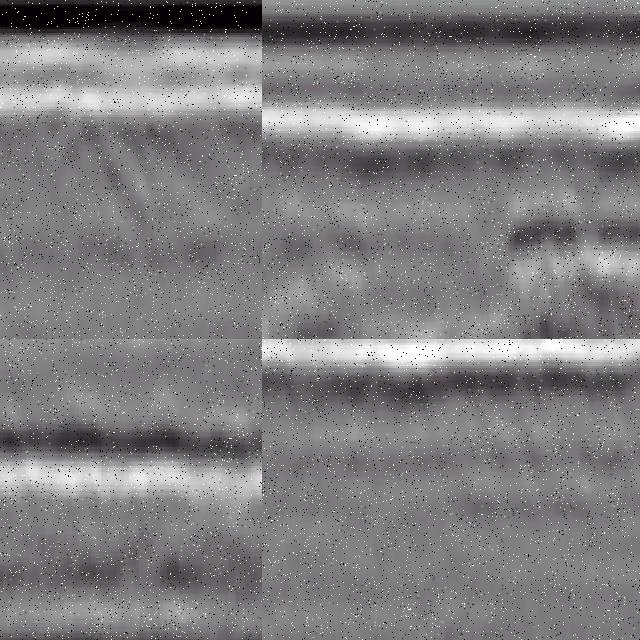loose: (493, 187, 640, 340)
